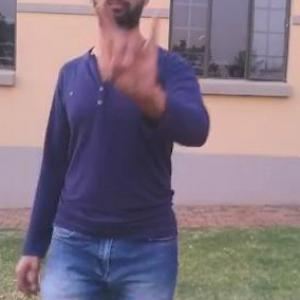takeoff-hand: (93, 3, 169, 108)
